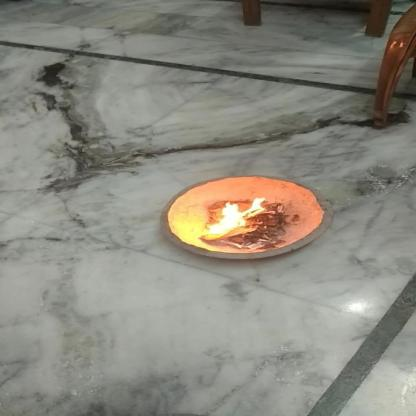fire: (205, 193, 278, 241)
